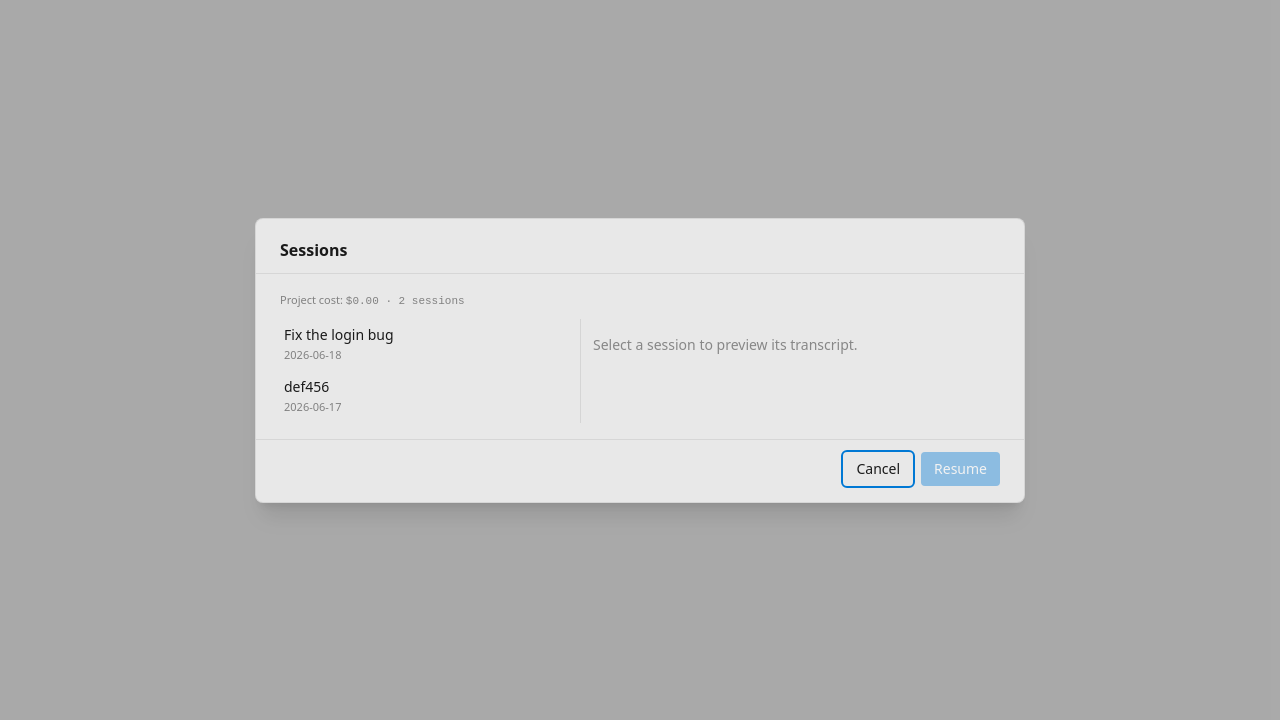
ResumeSessionDialog › Resume button enabled after selecting a session
Click the text "Fix the login bug" at (339, 334), box [284,324,394,344]
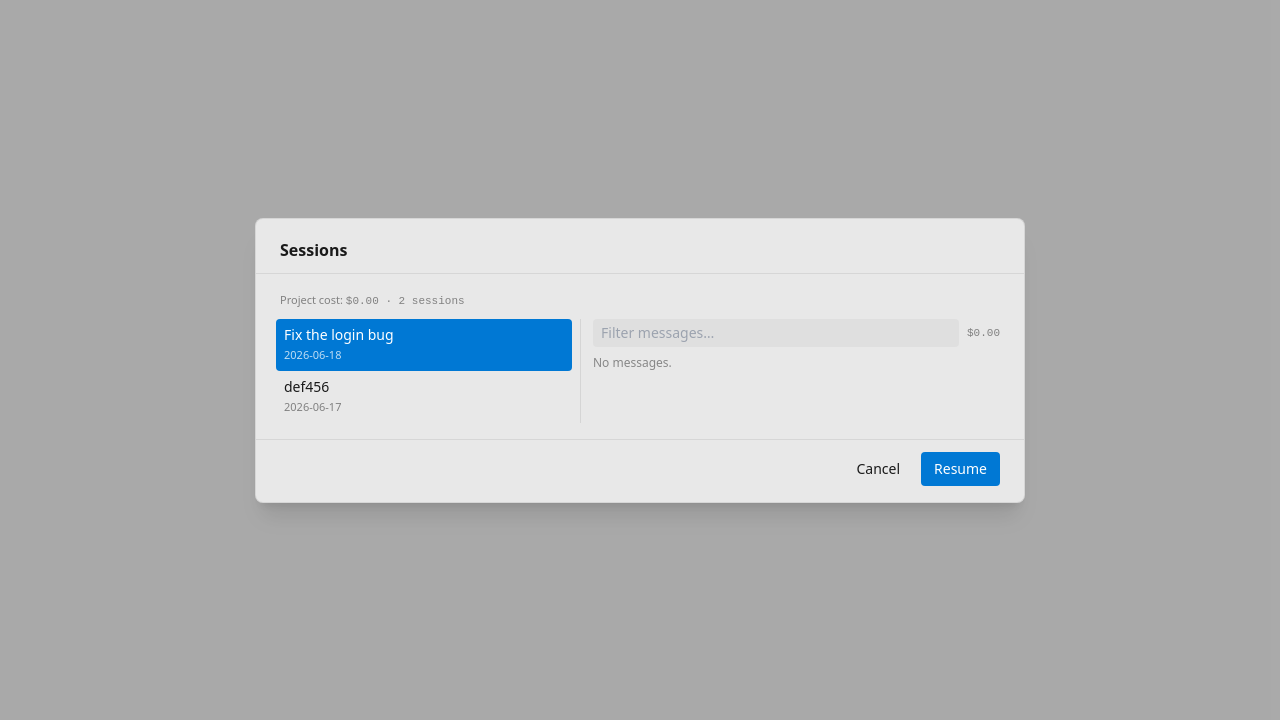
Expected: the button "Resume" is enabled, [921,452,1000,486]
